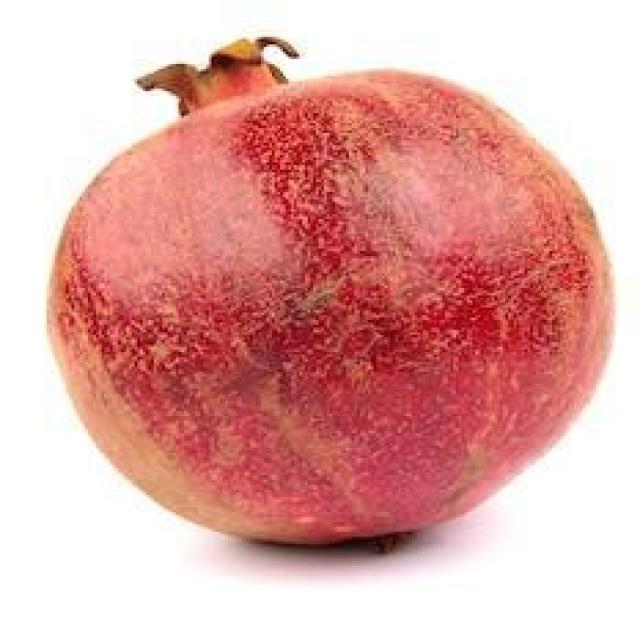Pomegranate: (44, 30, 622, 551)
